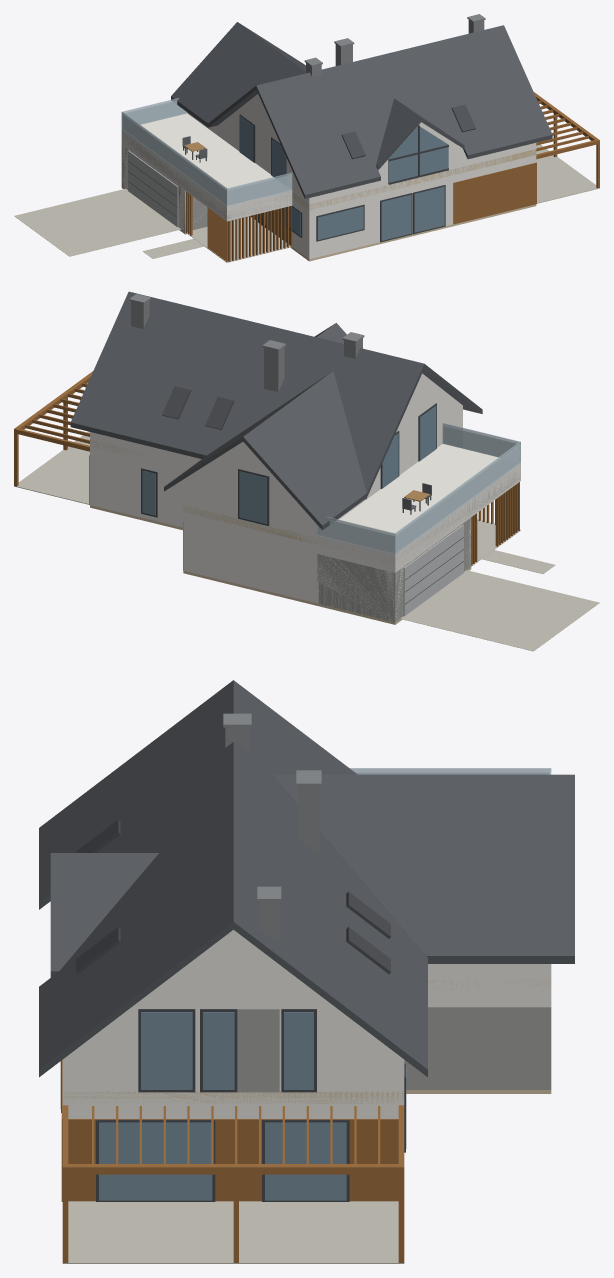
Rendered from dom3d-sketchup.dae.
3 renders of one model, top to bottom at view 1: azimuth 30°, elevation 25°; view 2: azimuth 150°, elevation 25°; view 3: azimuth 270°, elevation 25°, orthographic. The views are drawn at different scales.
Visible parts, largest first — view 1: Bryła z zewnątrz, Poddasze, Otoczenie, Pergola, Parter, Meble – poddasze; view 2: Bryła z zewnątrz, Poddasze, Parter, Otoczenie, Pergola, Meble – poddasze; view 3: Bryła z zewnątrz, Pergola, Poddasze, Parter.
Part boxes in pixels (x1,y1,x2,y2): Bryła z zewnątrz: (121, 14, 552, 262); Poddasze: (121, 101, 536, 219); Otoczenie: (14, 188, 204, 258); Pergola: (534, 92, 599, 203); Parter: (121, 143, 536, 261); Meble – poddasze: (182, 136, 207, 162); Bryła z zewnątrz: (70, 291, 520, 621); Poddasze: (90, 391, 520, 569); Parter: (90, 447, 471, 624); Otoczenie: (400, 550, 599, 651); Pergola: (14, 371, 92, 504); Meble – poddasze: (402, 483, 431, 514); Bryła z zewnątrz: (39, 680, 574, 1201); Pergola: (62, 1105, 404, 1263); Poddasze: (62, 772, 551, 1103); Parter: (68, 992, 551, 1118).
Bounding box in the file's own units: 2720 × 868 × 1350.
